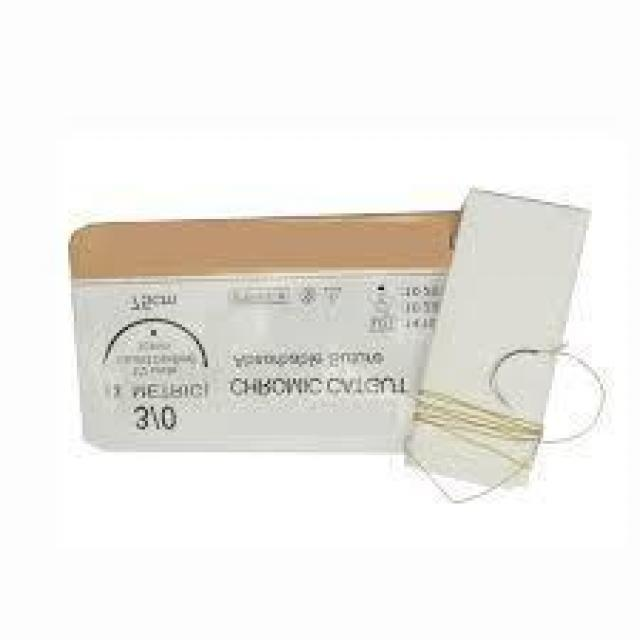Needle: (486, 347, 540, 412)
